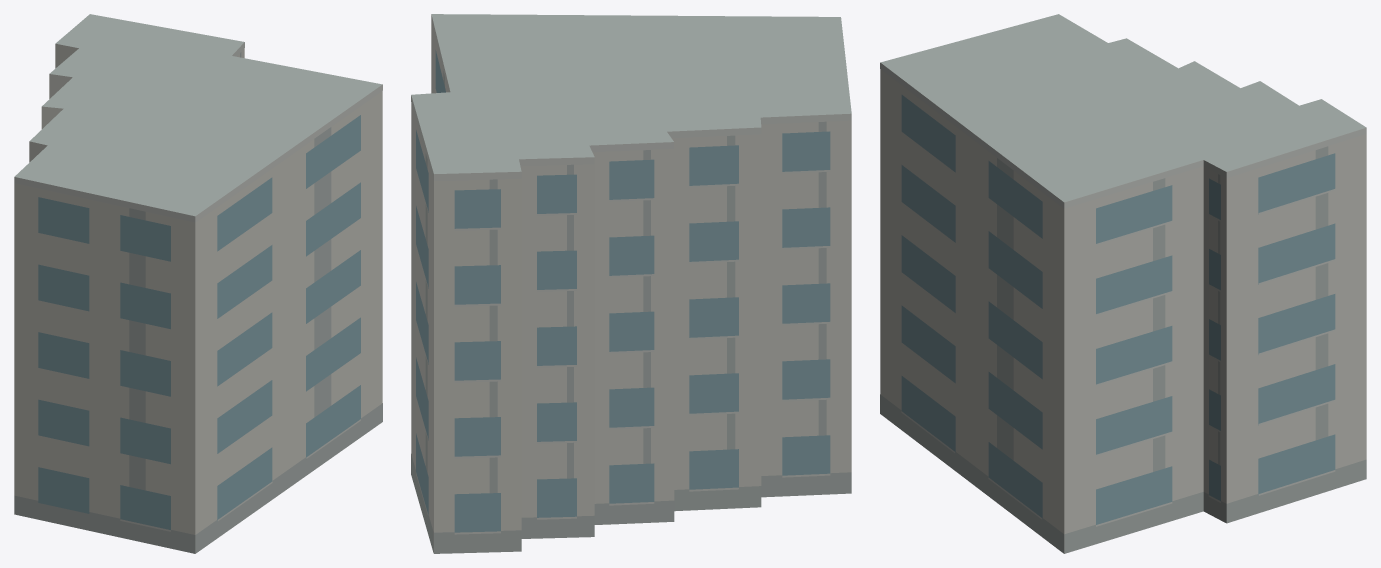
File: survey-upis-32543058.glb
3 views of the same model, side by side, from view 1: azimuth 30°, elevation 25°; view 2: azimuth 150°, elevation 25°; view 3: azimuth 270°, elevation 25° (orthographic). The views are drawn at different scales.
Parts seen in each view (by area): view 1: survey-upis-32543058.tmp; view 2: survey-upis-32543058.tmp; view 3: survey-upis-32543058.tmp.
Part boxes in pixels (x1=…): survey-upis-32543058.tmp: x1=14, y1=14, x2=382, y2=553; survey-upis-32543058.tmp: x1=411, y1=14, x2=851, y2=553; survey-upis-32543058.tmp: x1=880, y1=14, x2=1366, y2=553.
Size of the model in its own units: 15.31 by 13.3 by 16.7.
